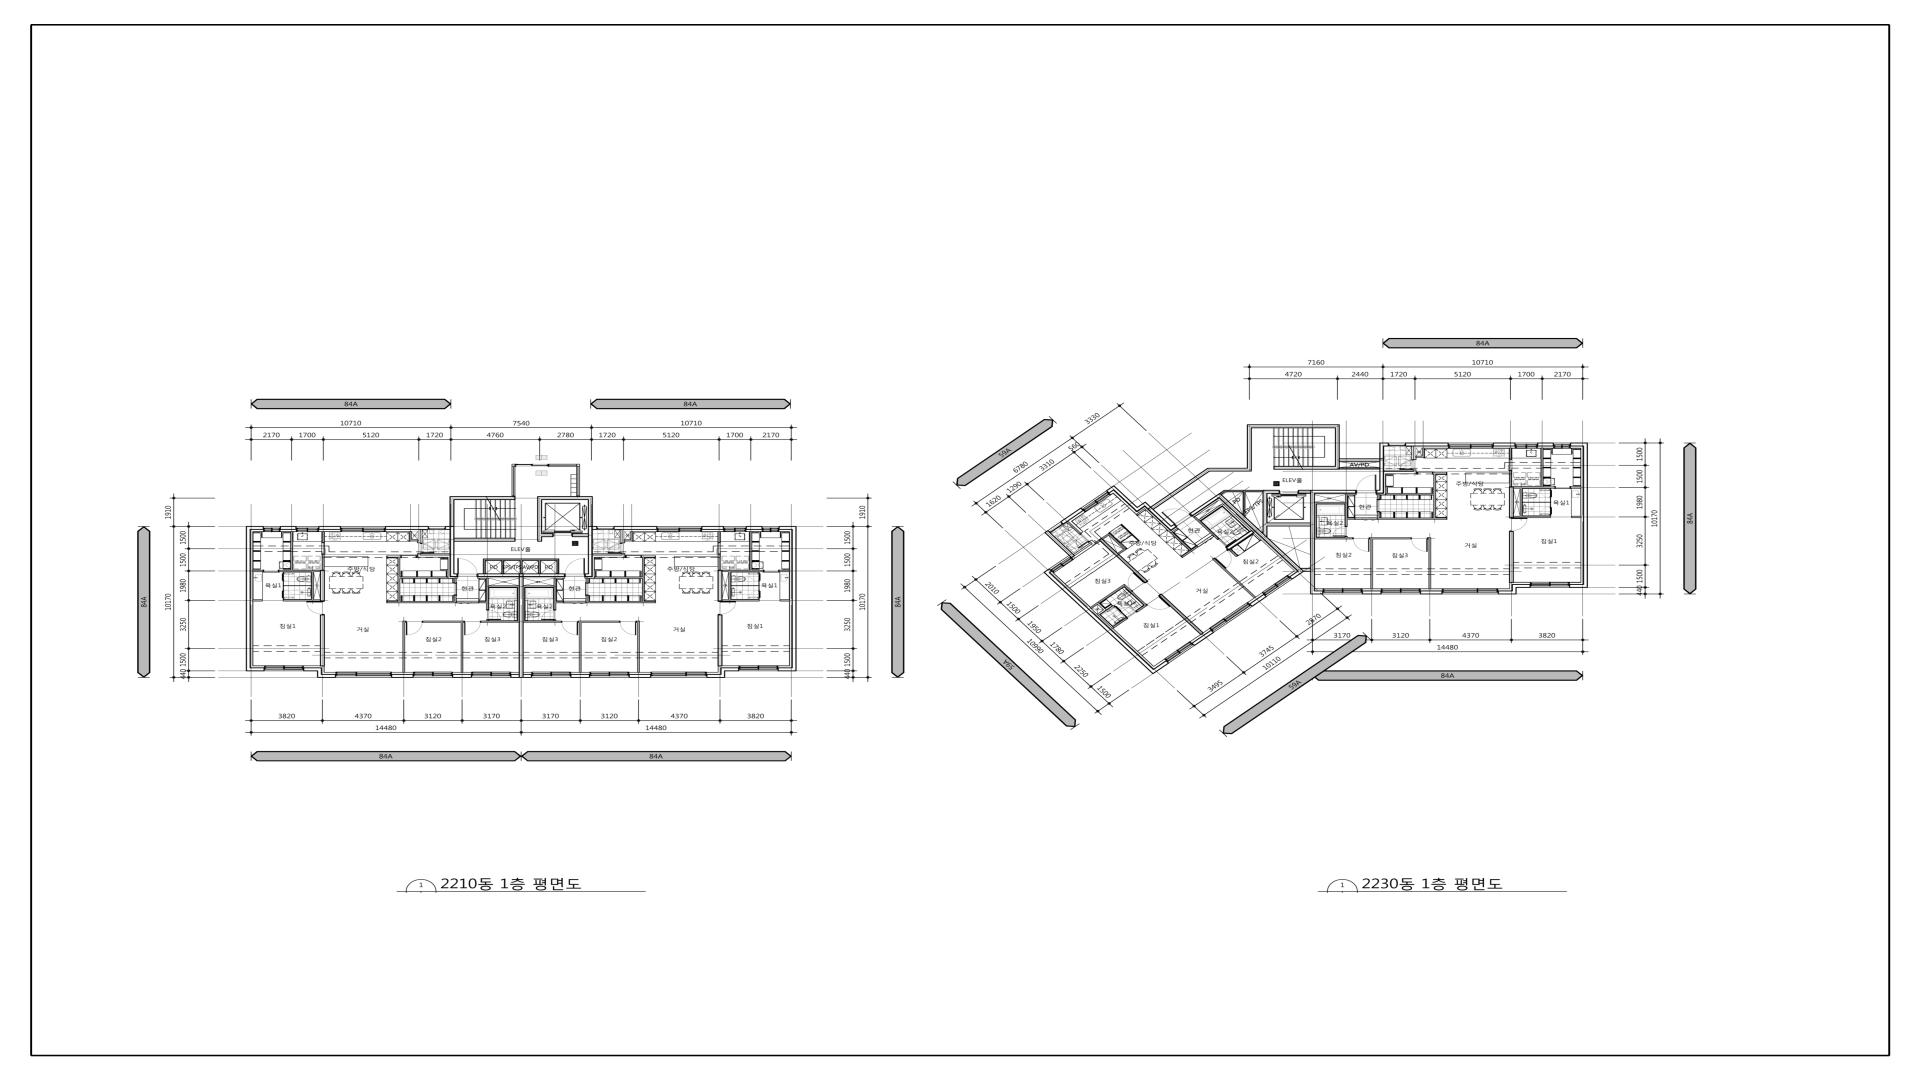door: (1162, 502, 1192, 526), (1121, 572, 1146, 592), (1215, 549, 1240, 568), (1146, 595, 1170, 613), (564, 558, 585, 578), (458, 558, 479, 578), (1356, 475, 1377, 493), (518, 524, 538, 542), (1117, 604, 1138, 620), (1071, 533, 1089, 549), (1217, 533, 1237, 547), (1353, 537, 1370, 553), (1411, 537, 1428, 553), (405, 621, 423, 636), (560, 621, 579, 636), (717, 601, 736, 616), (464, 621, 481, 636), (620, 621, 637, 636), (1510, 518, 1528, 531), (306, 601, 324, 615), (1197, 535, 1215, 547), (541, 609, 556, 620), (1333, 526, 1348, 537), (1399, 459, 1414, 469), (419, 543, 434, 554), (487, 609, 501, 620), (608, 543, 622, 554), (282, 589, 294, 599), (748, 589, 760, 599), (282, 574, 294, 582), (748, 574, 760, 582), (1354, 517, 1377, 521), (563, 601, 585, 604), (717, 542, 721, 555), (1509, 459, 1513, 471), (262, 570, 280, 572), (401, 555, 418, 558), (625, 555, 642, 558), (1555, 487, 1571, 489), (764, 570, 779, 572), (322, 542, 324, 555), (456, 601, 479, 603)
wall: (1047, 572, 1154, 671), (1220, 496, 1300, 571), (1151, 468, 1209, 509), (1098, 538, 1149, 583), (1158, 593, 1204, 634), (1212, 558, 1255, 599), (1044, 530, 1075, 558), (1221, 504, 1251, 531), (791, 530, 796, 671), (1189, 493, 1222, 516), (1582, 447, 1588, 584), (245, 530, 251, 667), (1145, 504, 1171, 529), (1193, 516, 1218, 539), (1225, 530, 1254, 550), (518, 578, 524, 678), (1113, 488, 1137, 509), (1122, 584, 1146, 605), (1097, 585, 1125, 603), (1060, 508, 1084, 525), (1170, 531, 1191, 550), (1311, 493, 1315, 591), (1199, 505, 1222, 521), (1192, 630, 1215, 646), (1247, 425, 1336, 429), (1108, 533, 1126, 550), (1509, 531, 1514, 583), (717, 616, 723, 666), (1274, 465, 1340, 469), (588, 526, 593, 574), (455, 496, 518, 500), (455, 538, 518, 542), (450, 526, 455, 574), (1150, 661, 1168, 674), (1249, 593, 1267, 607), (1379, 446, 1385, 491), (1098, 615, 1114, 629), (1262, 493, 1267, 537), (537, 496, 593, 500), (537, 500, 542, 542), (1180, 546, 1199, 558), (1335, 425, 1340, 465), (1246, 429, 1251, 468), (1073, 543, 1091, 555), (320, 615, 324, 666), (1067, 521, 1081, 534), (1267, 522, 1311, 526), (1208, 468, 1251, 472), (385, 526, 429, 530), (615, 526, 657, 530), (1509, 487, 1514, 518), (1406, 443, 1448, 447), (717, 570, 723, 601), (479, 574, 520, 578), (524, 574, 564, 578), (450, 496, 455, 526), (1134, 501, 1149, 512), (1290, 568, 1304, 579), (1113, 617, 1127, 628), (588, 500, 593, 526), (1428, 538, 1431, 589), (1370, 539, 1373, 589), (402, 622, 405, 673), (460, 622, 463, 673), (579, 622, 582, 673), (637, 622, 640, 673), (400, 576, 448, 579), (320, 570, 324, 601), (512, 464, 516, 496), (595, 576, 642, 579), (1433, 473, 1436, 518), (1311, 491, 1356, 493), (576, 467, 580, 496), (1370, 537, 1411, 539), (280, 570, 320, 572), (723, 570, 764, 572), (1340, 467, 1379, 469), (1224, 489, 1263, 492), (1340, 459, 1379, 462), (1315, 537, 1353, 539), (1540, 448, 1543, 487), (290, 531, 293, 570), (483, 559, 559, 560), (1514, 516, 1551, 518), (284, 599, 320, 601), (723, 599, 760, 601), (1315, 502, 1317, 538), (1377, 518, 1448, 520), (388, 601, 456, 603), (702, 526, 724, 530), (1493, 443, 1515, 447), (1420, 591, 1443, 595), (588, 601, 655, 603), (1137, 604, 1147, 612), (1106, 485, 1117, 493), (1345, 495, 1348, 526), (1167, 524, 1178, 531), (629, 674, 650, 678), (392, 674, 413, 678), (487, 578, 489, 609), (554, 578, 556, 609), (549, 464, 580, 467), (319, 526, 340, 530), (1385, 469, 1414, 472), (1362, 591, 1381, 595), (1317, 502, 1345, 505), (1569, 584, 1588, 588), (1498, 591, 1516, 595), (720, 667, 738, 671), (707, 674, 725, 678), (571, 674, 589, 678), (452, 674, 471, 678), (303, 667, 322, 671), (245, 667, 264, 671), (245, 526, 264, 530), (311, 572, 314, 599), (728, 572, 731, 599), (779, 526, 796, 530), (1571, 443, 1588, 447), (1513, 584, 1530, 588), (318, 674, 335, 678), (1242, 492, 1245, 517), (746, 526, 762, 530), (1386, 493, 1433, 495), (1229, 549, 1237, 556), (1538, 443, 1553, 447), (572, 533, 588, 537), (717, 554, 721, 570), (281, 526, 297, 530), (1043, 568, 1052, 575), (1097, 609, 1106, 616), (1089, 603, 1098, 609), (642, 555, 644, 601), (398, 558, 400, 601), (1514, 487, 1555, 488), (423, 621, 464, 622), (579, 621, 620, 622), (1097, 603, 1105, 609), (1105, 604, 1113, 611), (778, 667, 791, 671), (481, 621, 520, 622), (750, 531, 752, 570), (524, 621, 560, 622), (1311, 591, 1323, 595), (542, 533, 554, 537), (518, 585, 520, 621), (524, 585, 525, 621), (1101, 534, 1109, 539), (1509, 448, 1513, 459), (1510, 471, 1513, 487), (1263, 491, 1279, 493), (322, 554, 324, 570), (592, 554, 622, 555), (1411, 446, 1414, 460), (489, 585, 518, 587), (525, 585, 554, 587), (1520, 488, 1522, 516), (510, 674, 520, 678), (1172, 527, 1179, 533), (1118, 549, 1125, 554), (419, 530, 422, 543), (388, 555, 401, 558), (620, 530, 622, 543), (556, 560, 559, 574), (538, 560, 541, 574), (520, 560, 522, 574), (501, 560, 504, 574), (483, 560, 485, 574), (450, 574, 458, 578), (1299, 491, 1311, 493), (1377, 489, 1385, 493), (524, 674, 531, 678), (1095, 539, 1100, 545), (1220, 489, 1225, 495), (1300, 568, 1311, 571), (322, 531, 324, 542), (252, 570, 262, 572), (645, 555, 655, 558), (717, 531, 720, 542), (779, 599, 790, 601), (779, 570, 790, 572), (585, 574, 592, 578), (1572, 516, 1581, 518), (1379, 443, 1389, 446), (409, 531, 411, 541), (630, 531, 633, 539), (1377, 512, 1379, 518), (1433, 472, 1447, 473), (585, 596, 588, 603), (520, 574, 524, 578), (593, 526, 597, 530), (1088, 541, 1092, 545), (446, 526, 450, 530), (1571, 487, 1581, 488), (720, 671, 725, 674), (316, 671, 322, 674), (454, 596, 456, 601), (454, 578, 456, 583), (585, 578, 588, 583), (1423, 448, 1424, 458), (282, 582, 284, 591), (624, 539, 633, 541), (758, 582, 760, 591), (1513, 588, 1516, 591), (479, 601, 487, 603), (1348, 518, 1354, 520), (1416, 456, 1423, 458), (411, 539, 418, 541), (556, 601, 563, 603), (402, 621, 405, 622), (554, 620, 556, 621), (637, 621, 640, 622), (487, 620, 488, 621), (284, 585, 311, 585), (732, 585, 758, 585)
window: (1209, 603, 1251, 633), (1262, 575, 1292, 597), (1081, 491, 1110, 512), (1164, 642, 1193, 662), (1050, 555, 1073, 572), (650, 671, 707, 678), (335, 671, 392, 678), (1443, 588, 1498, 595), (471, 671, 512, 678), (1530, 582, 1569, 588), (1323, 588, 1362, 595), (1381, 588, 1420, 595), (589, 671, 629, 678), (531, 671, 571, 678), (413, 671, 452, 678), (1448, 443, 1493, 448), (340, 526, 385, 531), (657, 526, 702, 531), (738, 666, 778, 671), (264, 666, 303, 671), (1048, 522, 1063, 533), (1515, 443, 1538, 448), (297, 526, 319, 531), (724, 526, 746, 531), (1553, 443, 1571, 448), (264, 526, 281, 531), (762, 526, 779, 531), (516, 464, 549, 467), (517, 496, 537, 500), (429, 526, 446, 530), (597, 526, 615, 530), (1389, 443, 1406, 446)
